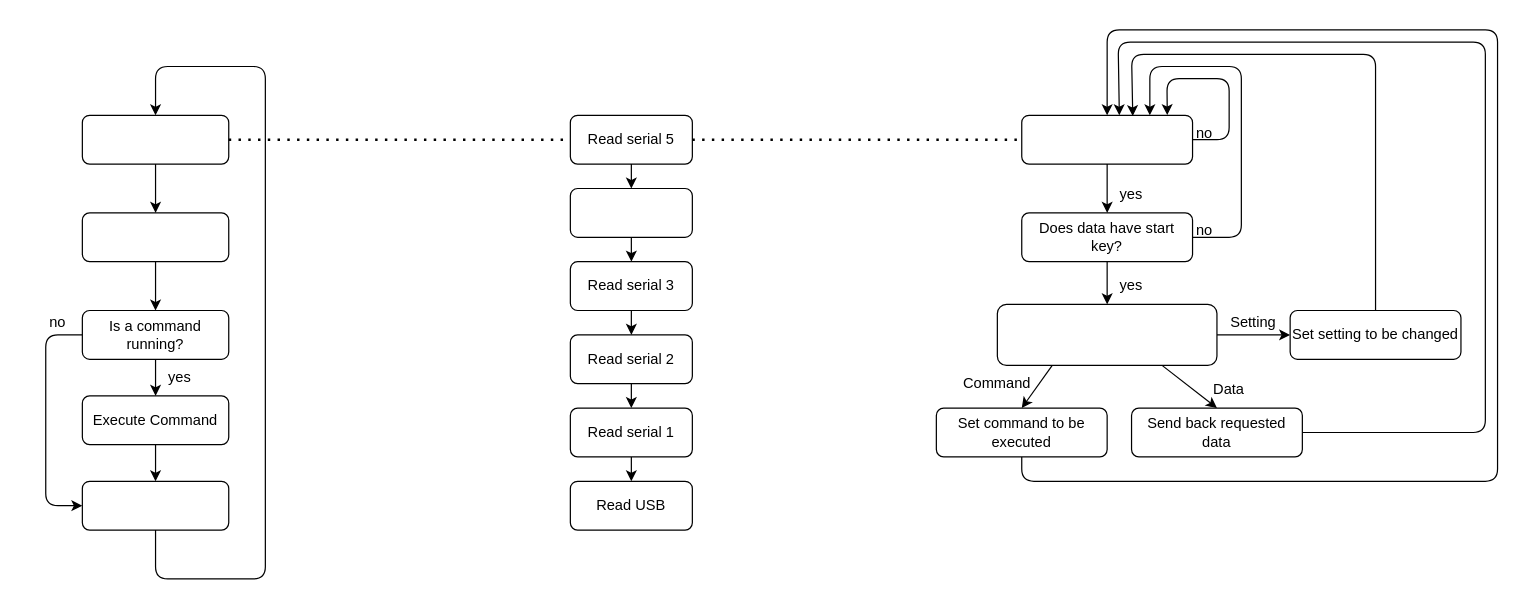
The diagram is 1529 pixels wide and 610 high, and some of its shapes have lost their labels. Each missing label, with the centre of its shape:
"Executing a command, requesting data, or changing a setting?" belongs at point 1106,334.
"Is data available" belongs at point 1107,139.
"Read Command Buttons" belongs at point 155,237.
"Read serial 4" belongs at point 630,212.
"Read Serial Input" belongs at point 155,139.
"Set Output Statuses" belongs at point 155,505.
